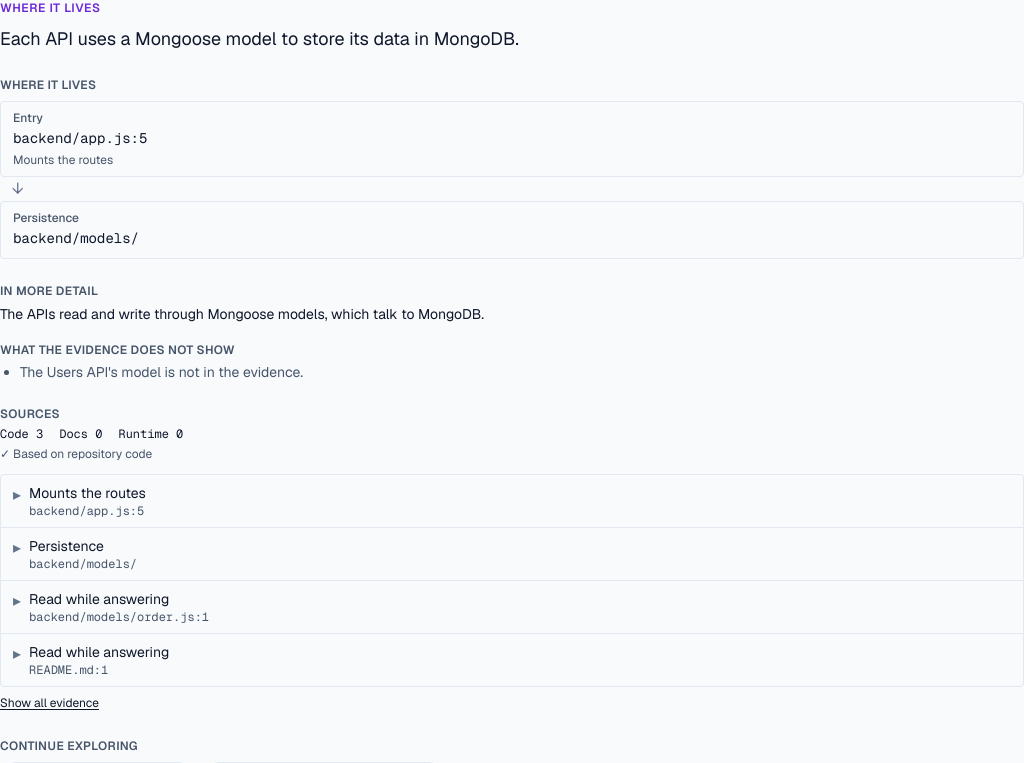
Test case: the picture › lays out a code map for a location question
The width and height of the screenshot is (1024, 763).
Click the button "backend/app.js:5" at (80, 138), box 13,128 -> 147,148
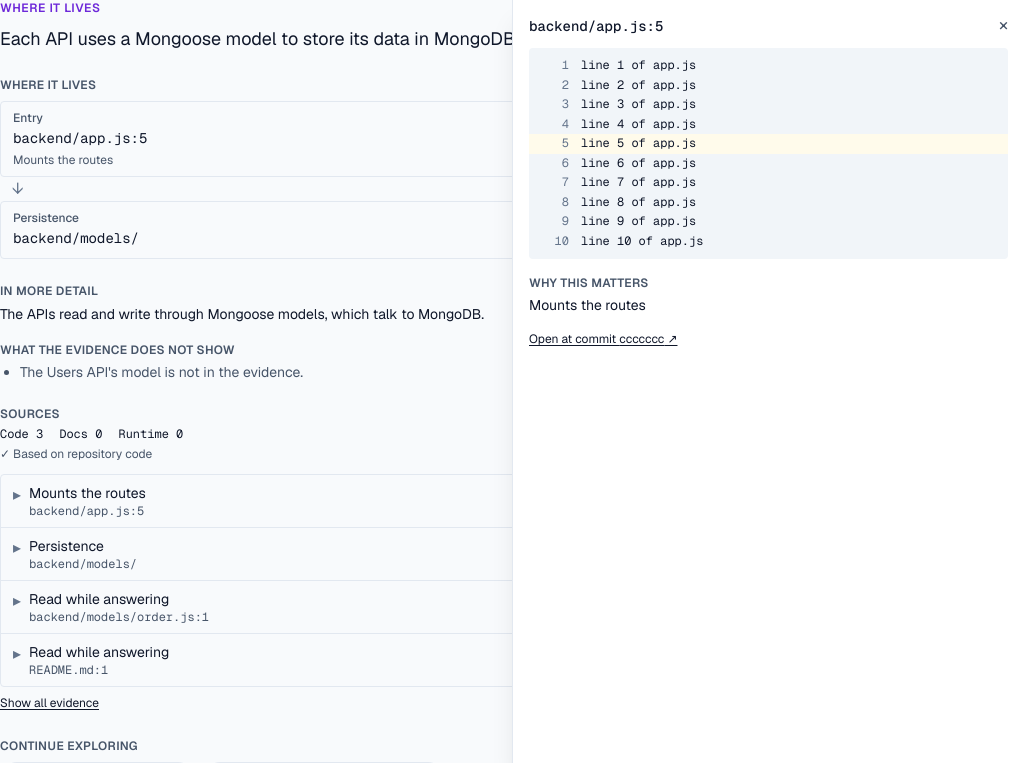
Result: the text with test id "drawer-reason" reads "Mounts the routes" at 529,296 -> 646,314
